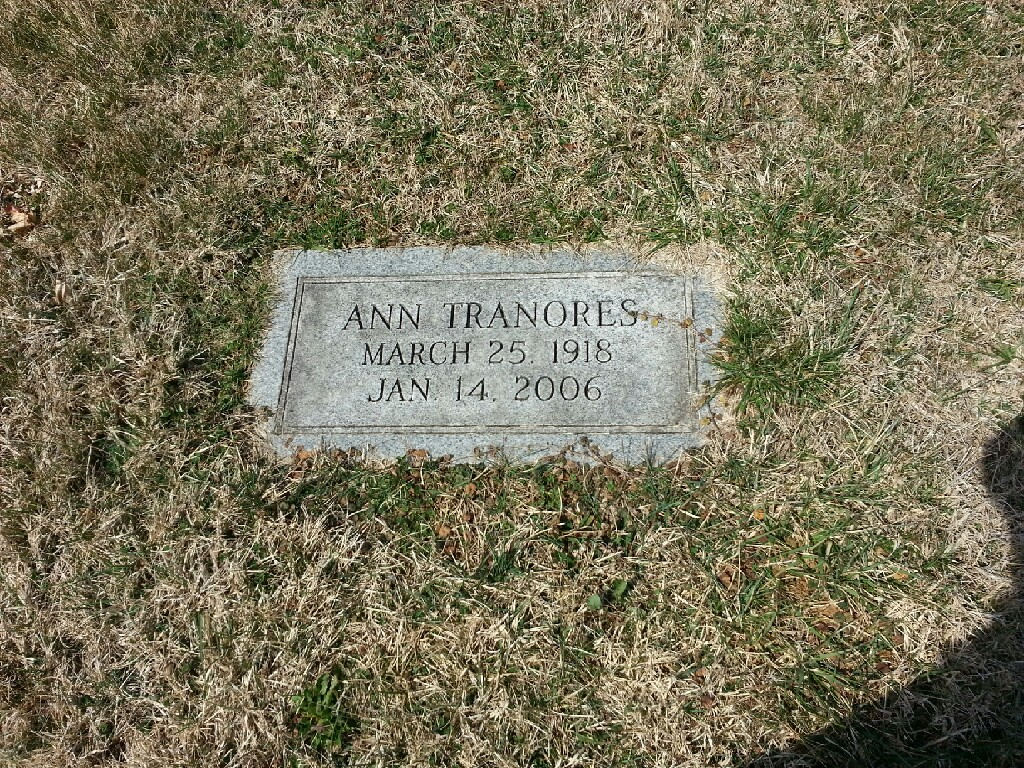flat: (242, 244, 738, 469)
